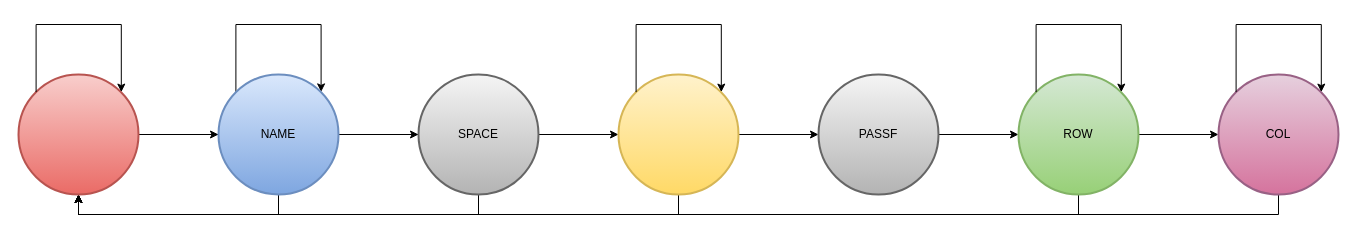
Some shapes in this 1356 by 240 pixel diagram are drawn without their labels. Here are the shapes that lost their labels. From the top down, the box of each, then its label:
(17, 73, 139, 195): FIRSTSECOND
(617, 73, 739, 195): SEQ
